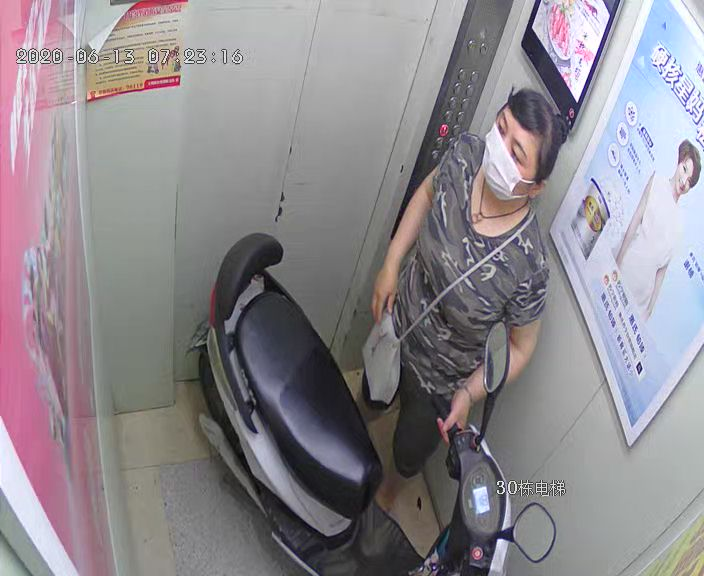Electric-bicycle: (218, 241, 510, 576)
